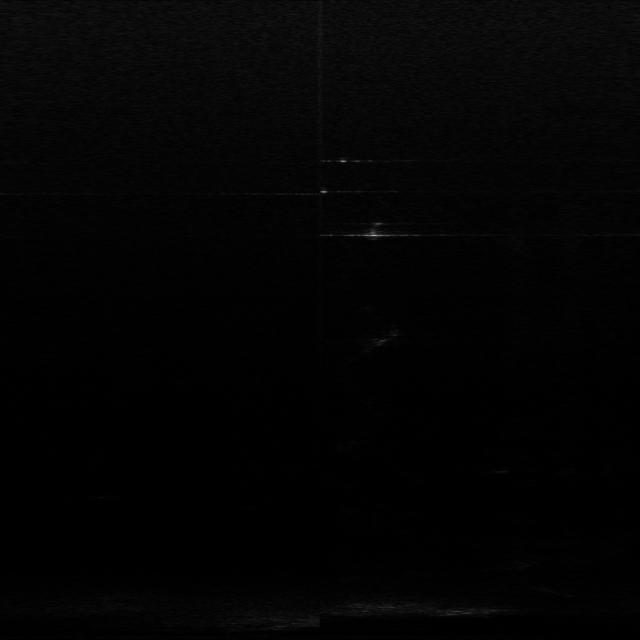rov: (359, 219, 387, 242)
